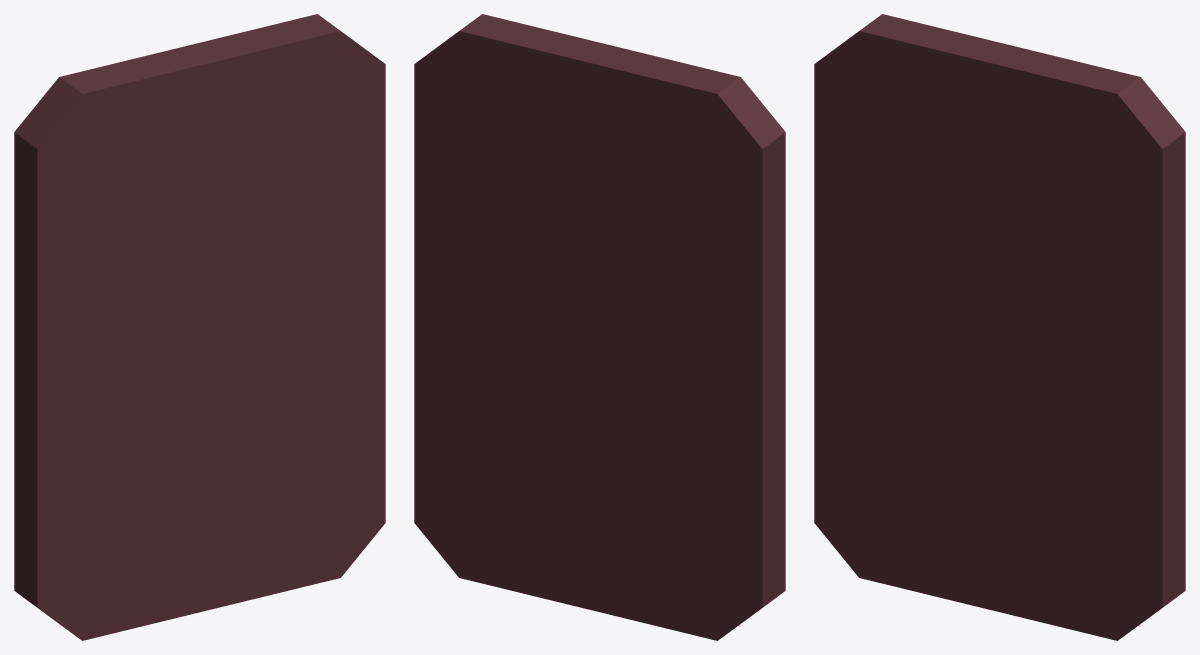
File: scifi-scifi-banner-small-vertical.glb
3 renders of one model, left to right at view 1: azimuth 30°, elevation 25°; view 2: azimuth 150°, elevation 25°; view 3: azimuth 330°, elevation 25°, orthographic.
Visible parts, largest first — view 1: scifi-banner-small-vertical; view 2: scifi-banner-small-vertical; view 3: scifi-banner-small-vertical.
Boxes of the visible parts, <box> form: scifi-banner-small-vertical: <box>14,14,385,640</box>; scifi-banner-small-vertical: <box>414,14,785,640</box>; scifi-banner-small-vertical: <box>814,14,1185,640</box>.
Bounding box in the file's own units: 0.7709 × 1.16 × 0.0893.
